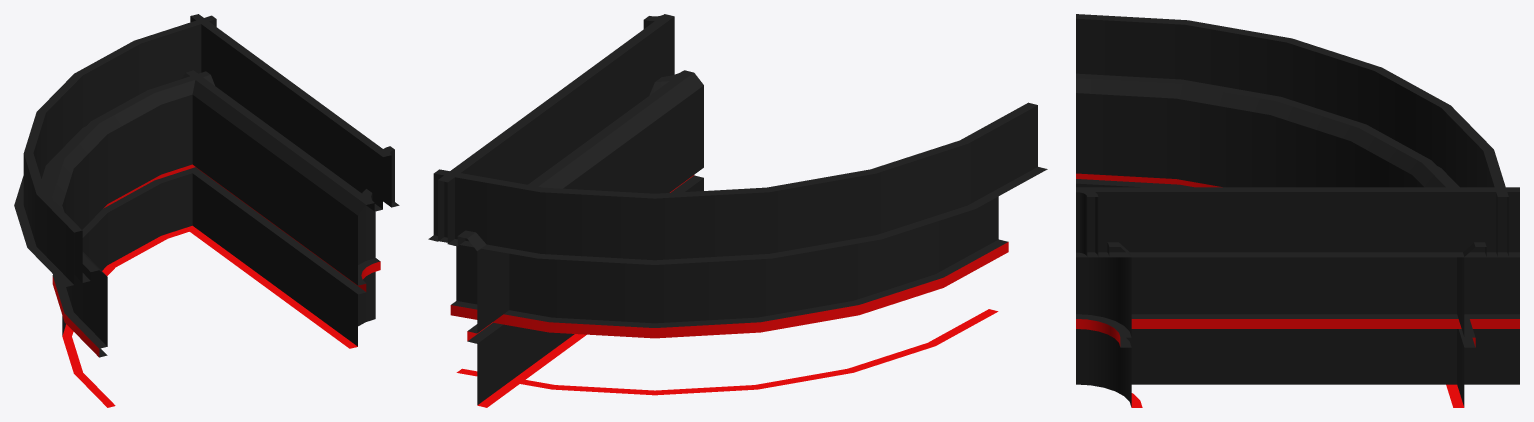
The model's file is MazeEsterno.fbx.
The picture shows the model from 3 angles, left to right: view 1: azimuth 30°, elevation 25°; view 2: azimuth 150°, elevation 25°; view 3: azimuth 270°, elevation 25°; orthographic projection. The views are drawn at different scales.
Visible parts, largest first — view 1: Esterno Muro, Esterno Curva Esterna, Esterno Curva Interna; view 2: Esterno Curva Esterna, Esterno Muro, Esterno Curva Interna; view 3: Esterno Muro, Esterno Curva Esterna, Esterno Curva Interna.
Part boxes in pixels (bbox=[...]): Esterno Muro: bbox=[181, 14, 398, 348]; Esterno Curva Esterna: bbox=[14, 15, 216, 407]; Esterno Curva Interna: bbox=[343, 146, 399, 348]; Esterno Curva Esterna: bbox=[428, 102, 1047, 395]; Esterno Muro: bbox=[430, 14, 703, 407]; Esterno Curva Interna: bbox=[643, 14, 703, 187]; Esterno Muro: bbox=[1076, 187, 1519, 384]; Esterno Curva Esterna: bbox=[1076, 14, 1519, 407]; Esterno Curva Interna: bbox=[1076, 187, 1142, 407].
Size of what is drawn, in the model's own units: 8 by 8 by 4.2.
